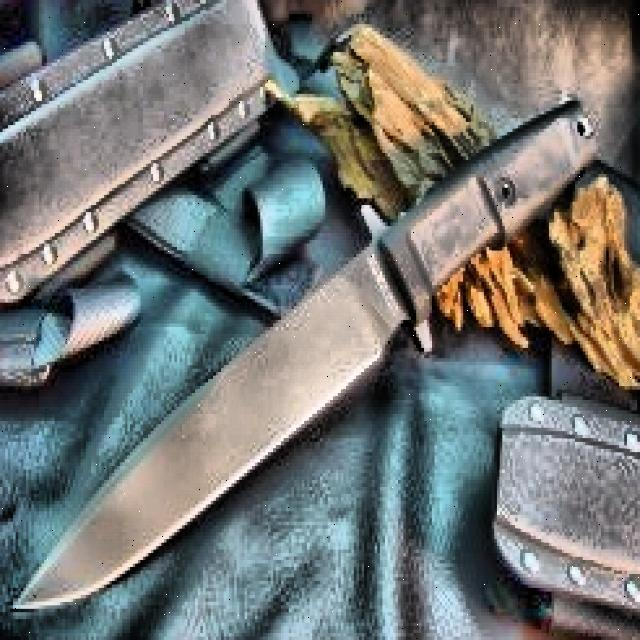knife: (18, 96, 594, 614)
